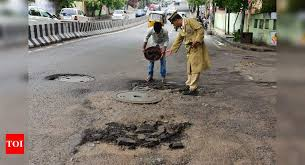Manhole-Closed: (45, 68, 95, 86), (113, 87, 165, 103)
car: (58, 5, 88, 22), (28, 6, 58, 22), (110, 9, 128, 20)
human: (167, 10, 209, 95), (141, 21, 171, 84)
